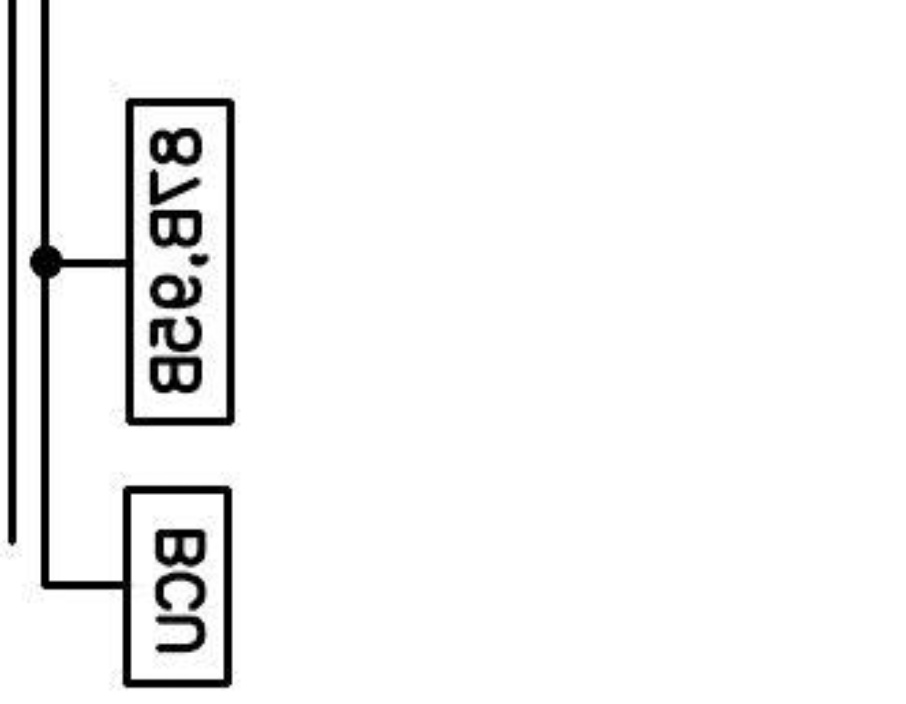BCU: (121, 484, 234, 691)
